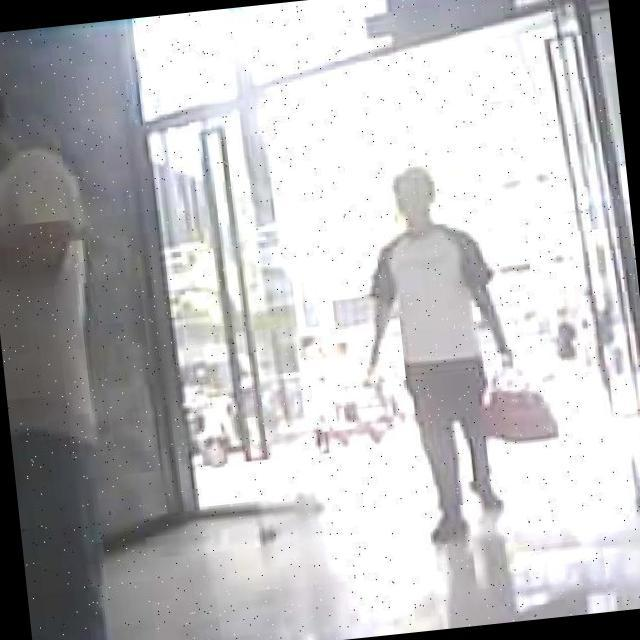person: (0, 44, 133, 640), (342, 157, 532, 552)
